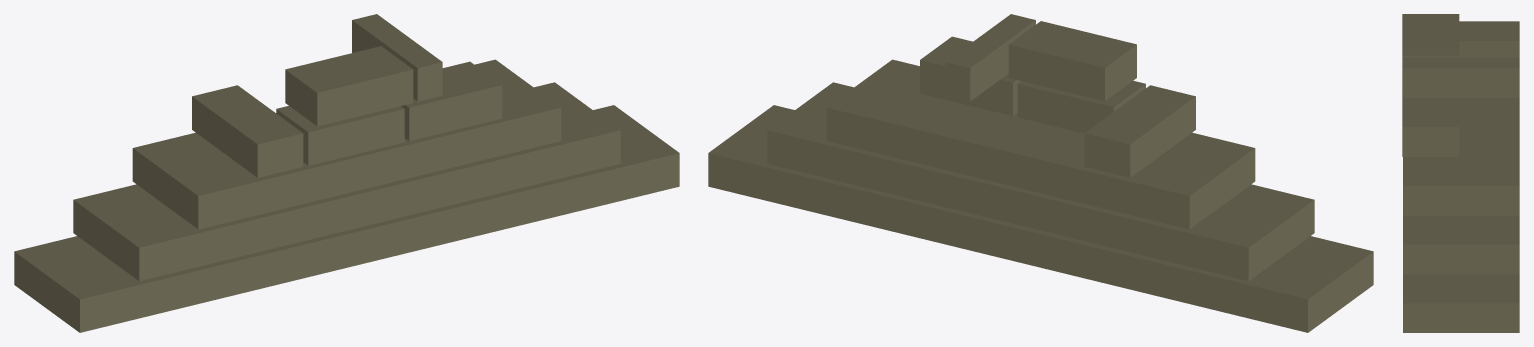
The model's file is SM_PretilTramo_v1_Talud_e1_Danado_LOD1.fbx.
The picture shows the model from 3 angles, left to right: view 1: azimuth 30°, elevation 25°; view 2: azimuth 150°, elevation 25°; view 3: azimuth 270°, elevation 25°; orthographic projection. The views are drawn at different scales.
Visible parts, largest first — view 1: SM_pretil_azotea_v5_LOD1; view 2: SM_pretil_azotea_v5_LOD1; view 3: SM_pretil_azotea_v5_LOD1.
Boxes of the visible parts, x1=… form: SM_pretil_azotea_v5_LOD1: x1=14, y1=14, x2=679, y2=332; SM_pretil_azotea_v5_LOD1: x1=708, y1=14, x2=1373, y2=332; SM_pretil_azotea_v5_LOD1: x1=1402, y1=14, x2=1519, y2=332.
Bounding box in the file's own units: 5.06 × 1.47 × 0.965.
